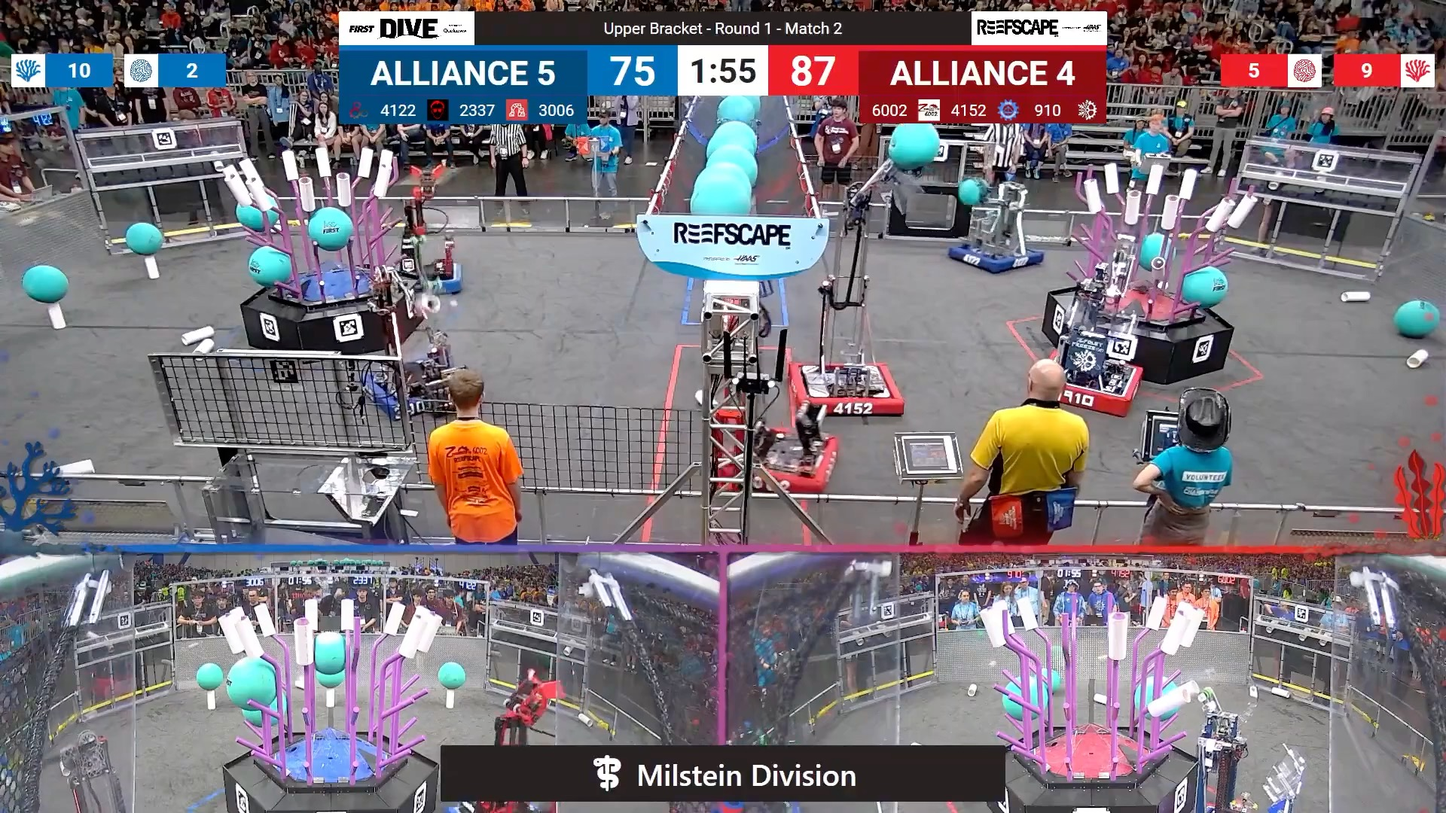bumpers: (788, 358, 908, 424), (358, 364, 484, 420), (749, 431, 841, 496), (1053, 361, 1147, 418), (942, 242, 1049, 276), (397, 260, 469, 295)
